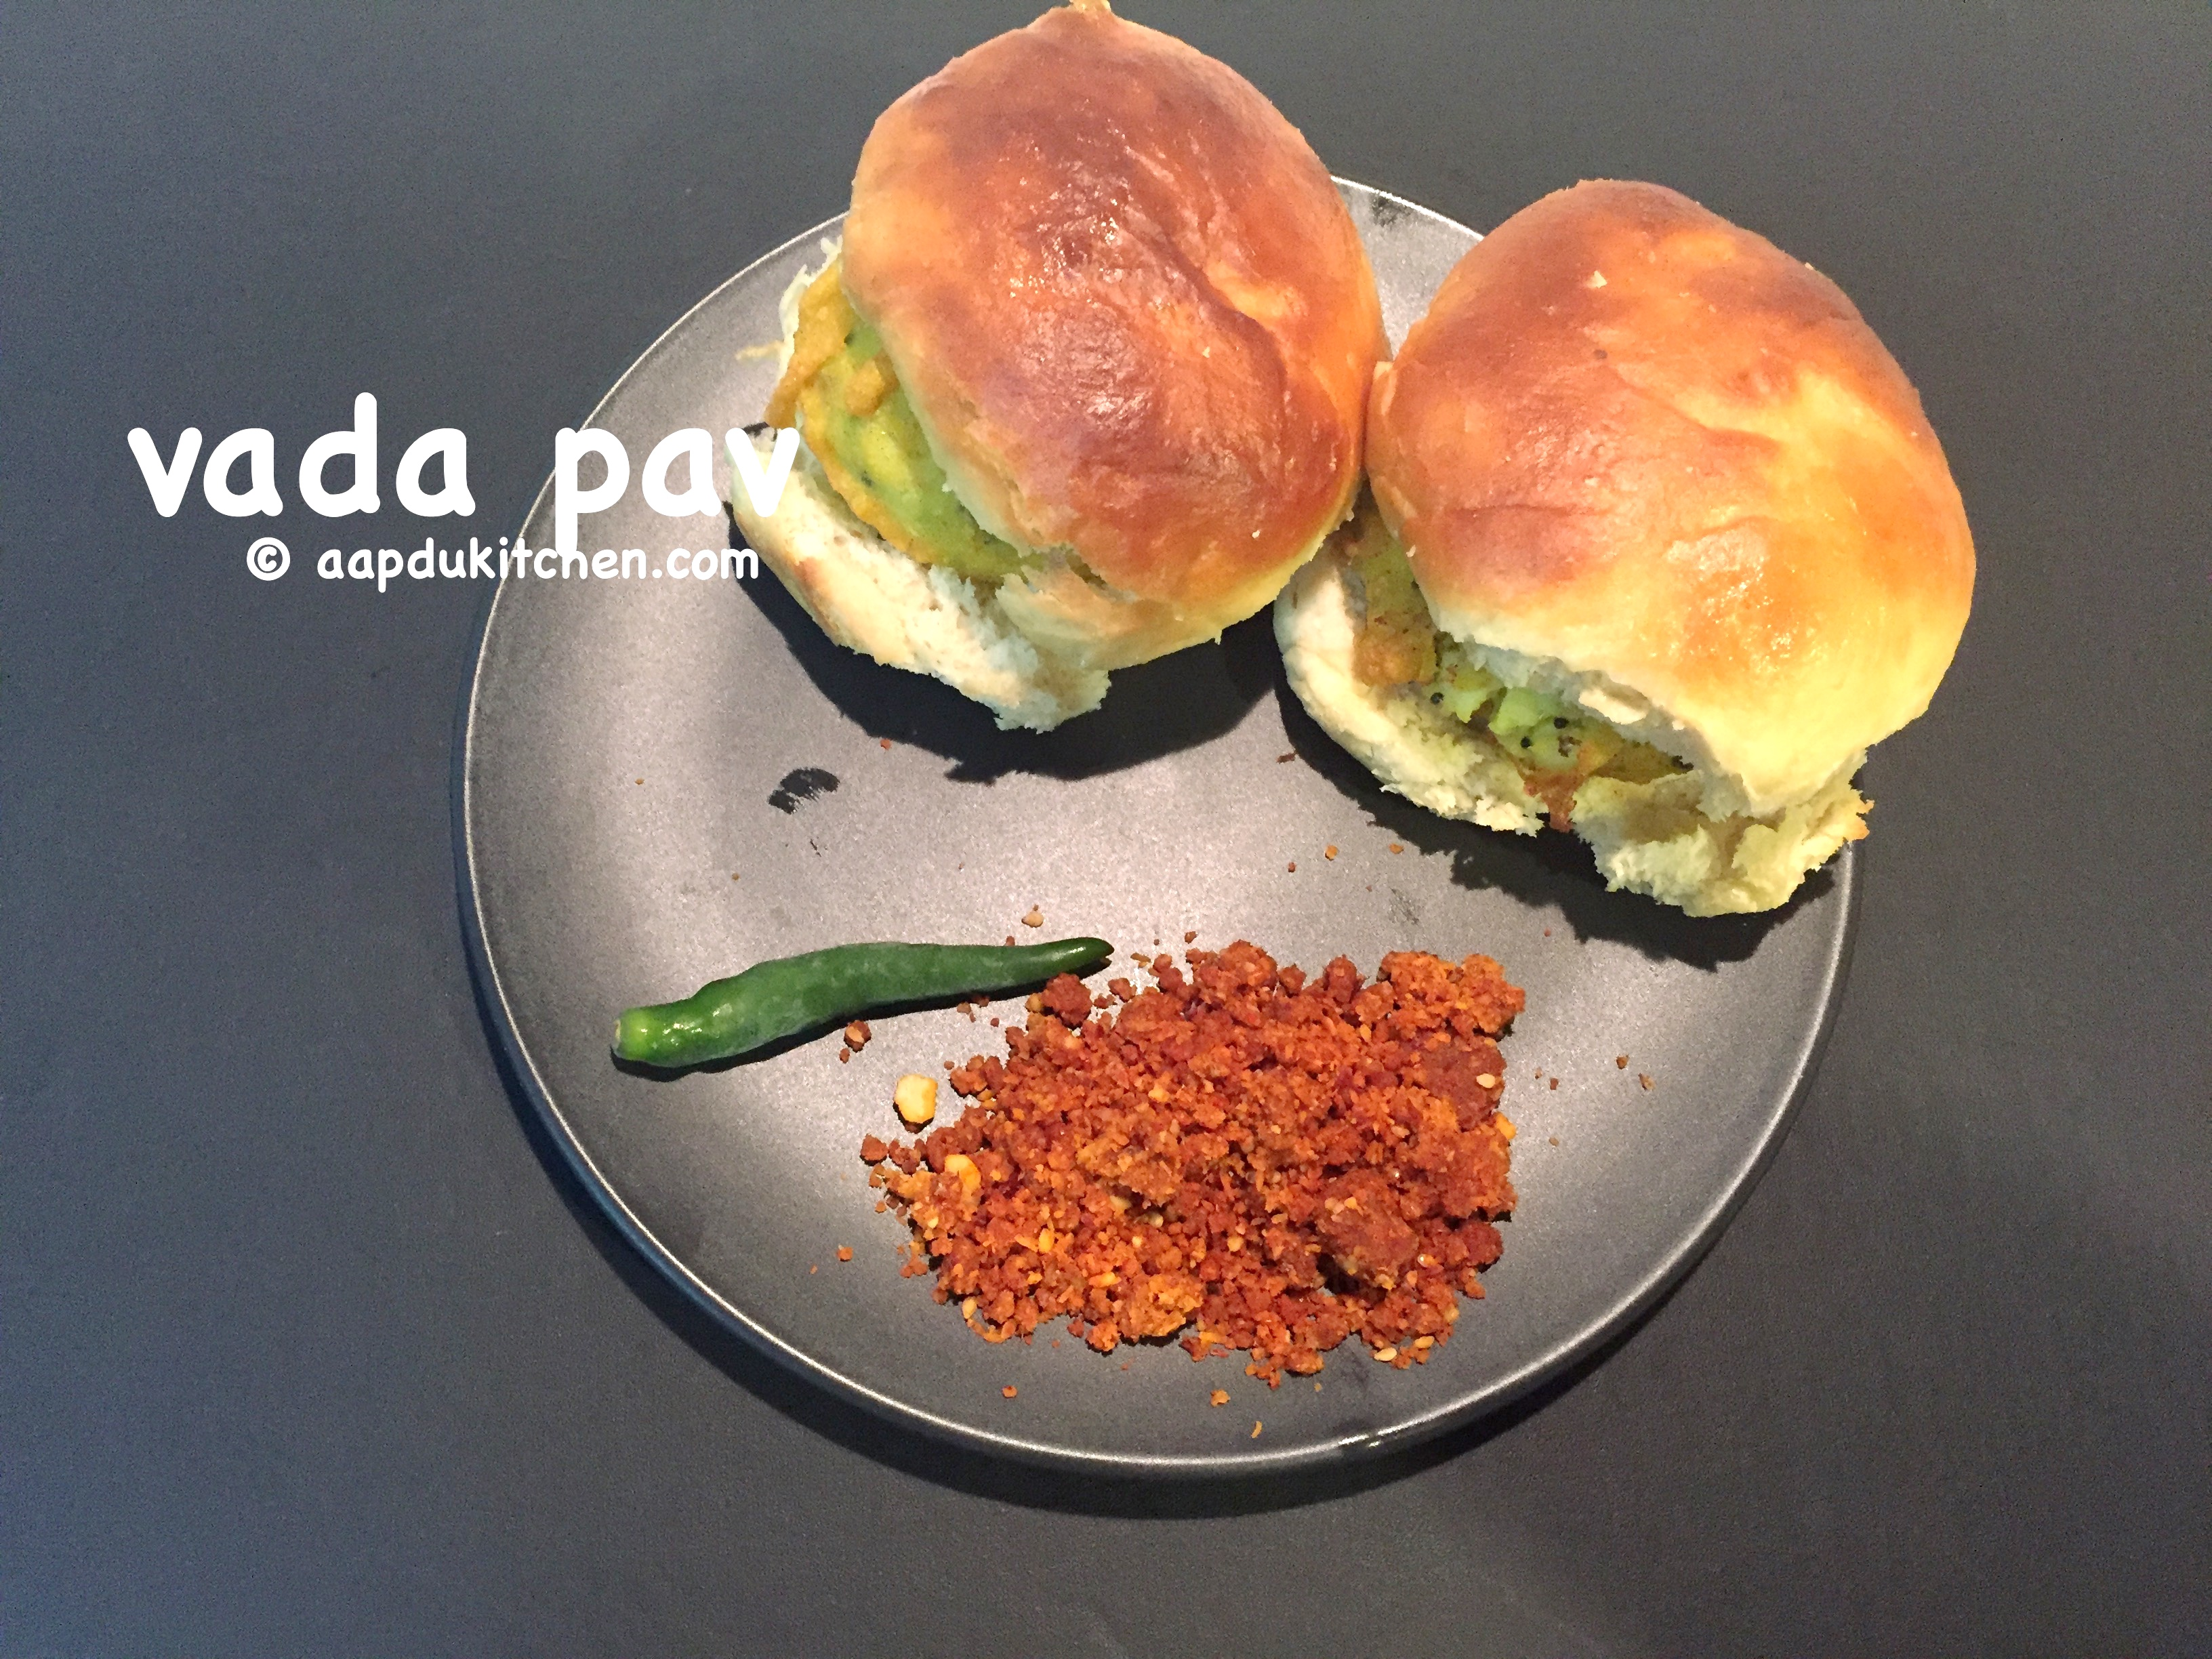vada pav: (1465, 253, 1825, 857), (900, 106, 1150, 692)
